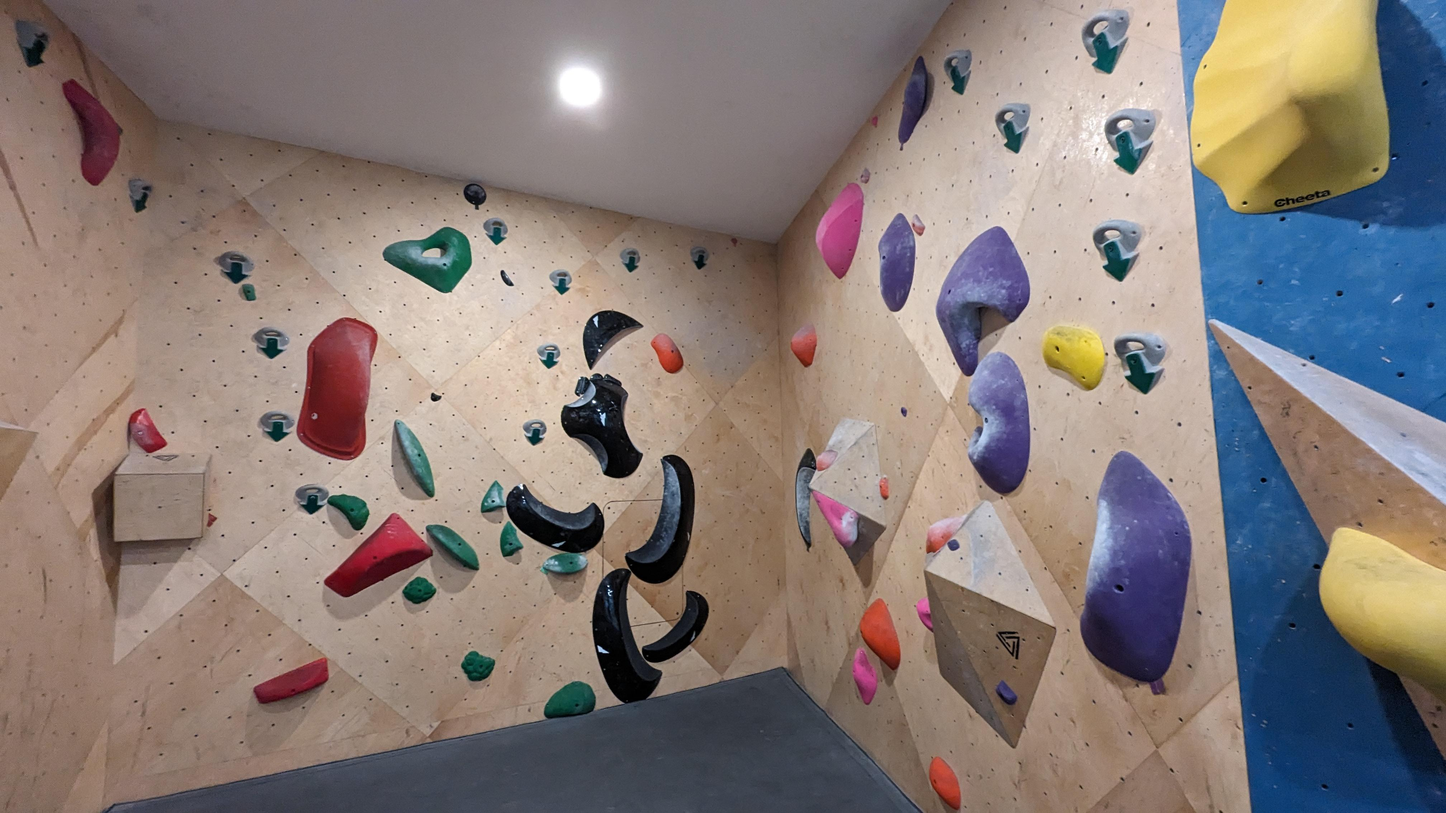hold: (1189, 0, 1390, 215), (1080, 450, 1192, 683), (1318, 526, 1446, 704), (935, 226, 1030, 377), (296, 317, 378, 461), (592, 568, 663, 704), (323, 512, 434, 598), (625, 454, 695, 584), (967, 351, 1030, 494), (560, 380, 643, 479), (506, 483, 605, 553), (62, 78, 120, 186), (382, 226, 473, 294), (641, 590, 709, 663), (815, 182, 864, 280), (1041, 324, 1105, 390), (877, 212, 916, 312), (582, 310, 645, 371), (1104, 107, 1157, 176), (253, 657, 329, 704), (1113, 330, 1167, 395), (1081, 8, 1131, 75), (394, 419, 435, 498), (1091, 220, 1142, 283), (859, 598, 901, 671), (811, 489, 860, 549), (898, 55, 928, 144), (425, 524, 480, 571), (795, 448, 817, 546), (994, 102, 1031, 155), (545, 680, 596, 717), (929, 756, 962, 811), (127, 408, 167, 453), (925, 514, 970, 554), (14, 20, 50, 68), (327, 494, 370, 531), (852, 647, 878, 705), (650, 333, 684, 374), (943, 49, 972, 96), (218, 251, 256, 285), (790, 323, 818, 368), (254, 326, 291, 360), (460, 650, 496, 682), (295, 484, 330, 516), (260, 411, 296, 442), (542, 553, 589, 575), (402, 576, 437, 604), (127, 179, 154, 213), (500, 521, 524, 557), (480, 480, 506, 513), (483, 217, 509, 246), (522, 419, 547, 447), (548, 269, 573, 296), (536, 343, 561, 369), (916, 596, 933, 633), (995, 680, 1019, 706), (619, 247, 641, 273), (463, 183, 487, 206), (689, 246, 710, 271), (816, 449, 838, 471), (911, 214, 926, 237), (574, 376, 590, 397), (241, 283, 257, 301), (500, 269, 515, 287), (879, 476, 890, 500), (602, 373, 622, 386), (860, 167, 871, 184), (947, 539, 960, 551), (207, 513, 217, 527), (431, 392, 442, 402), (590, 373, 604, 380), (871, 116, 878, 129), (901, 406, 908, 418), (730, 238, 738, 244)
volume: (1205, 314, 1446, 765), (922, 499, 1057, 751), (808, 420, 887, 570), (112, 453, 211, 542)
